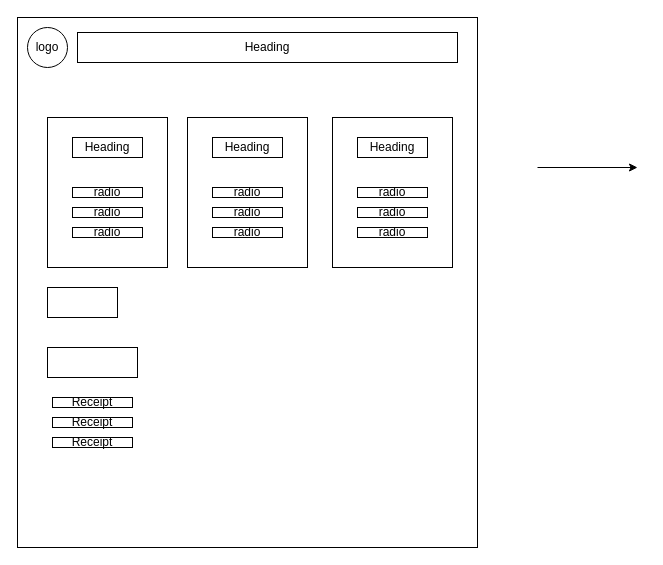
The diagram is 663 pixels wide and 565 high, and some of its shapes have lost their labels. The centre of each missing label's shape, as x and y in pixels:
Button: [82,302]
Sales heading: [92,362]
